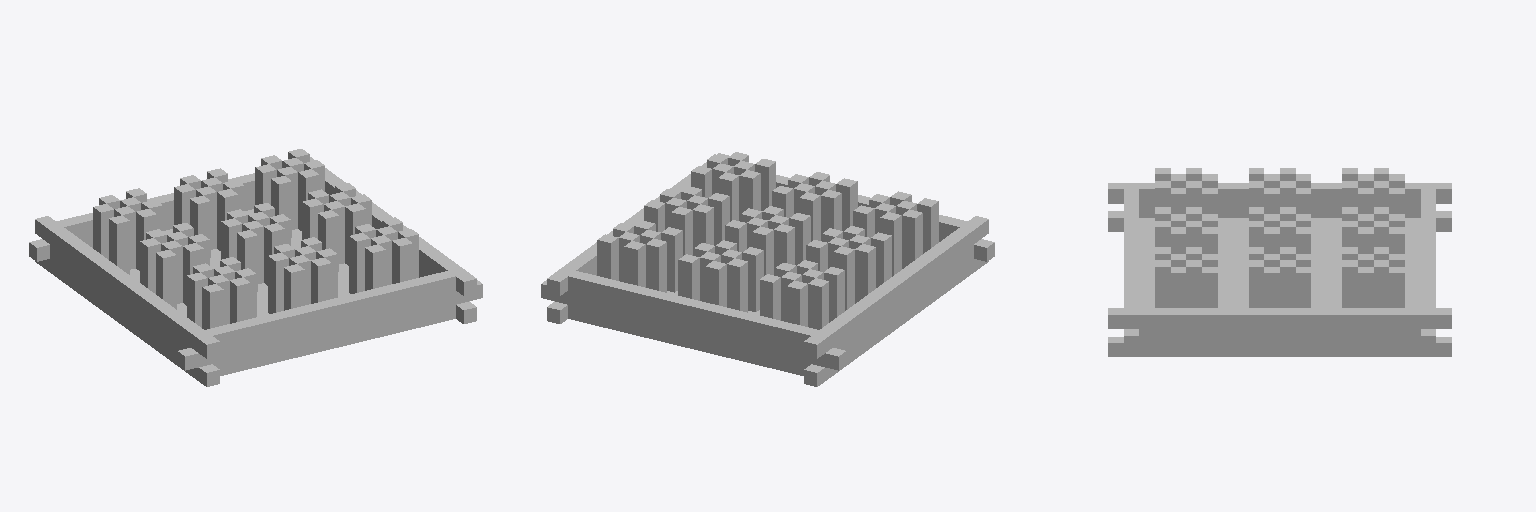
The model's file is plotfarm.obj.
The picture shows the model from 3 angles: view 1: azimuth 30°, elevation 25°; view 2: azimuth 150°, elevation 25°; view 3: azimuth 270°, elevation 25°; orthographic projection.
Bounding box in the file's own units: 22 × 5 × 22.